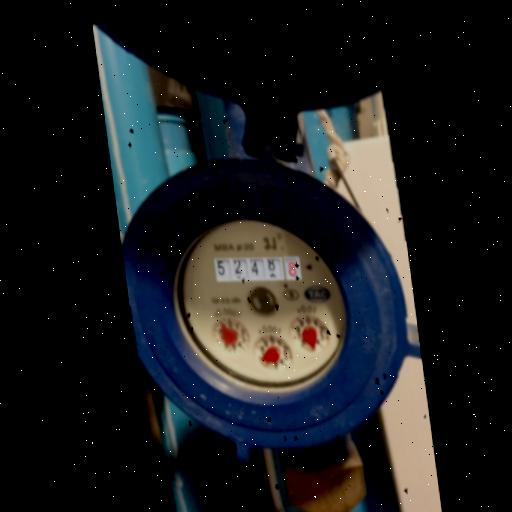2: (233, 259, 247, 279)
4: (250, 259, 265, 279)
5: (216, 260, 231, 280)
8: (267, 259, 282, 279), (285, 259, 299, 279)
border_water_meter_number: (213, 251, 302, 286)
